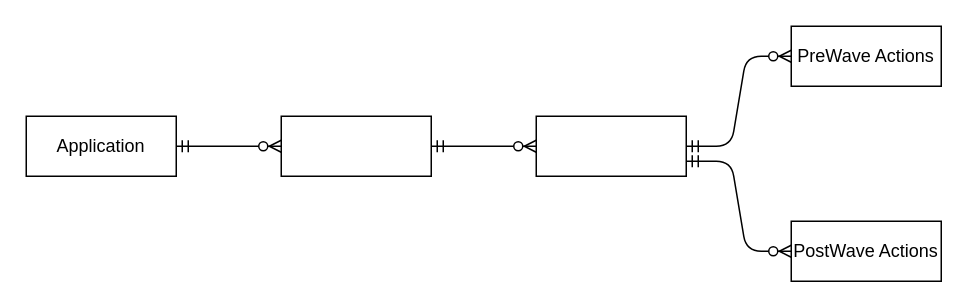
The diagram is 968 pixels wide and 308 high, and some of its shapes have lost their labels. The shapes that lost their labels are listed below. From the top down, each one's centre as x and y in pixels, then its label:
(x=355, y=145): Plans
(x=610, y=145): Waves
